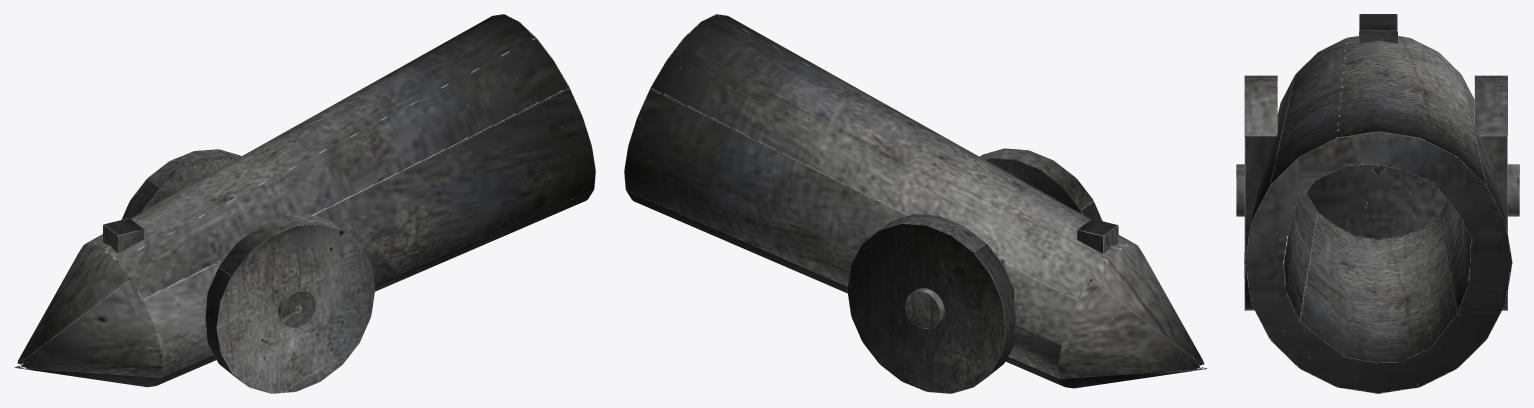
File: Cannon.fbx
3 views of the same model, side by side, from view 1: azimuth 30°, elevation 25°; view 2: azimuth 150°, elevation 25°; view 3: azimuth 270°, elevation 25° (orthographic). The views are drawn at different scales.
Parts seen in each view (by area): view 1: pCylinder6; view 2: pCylinder6; view 3: pCylinder6.
Part boxes in pixels (<box>): pCylinder6: <box>14,14,595,393</box>; pCylinder6: <box>624,14,1207,393</box>; pCylinder6: <box>1236,14,1519,393</box>.
Bounding box in the file's own units: 204 × 95.17 × 70.94.
1 material, 1 textured.
